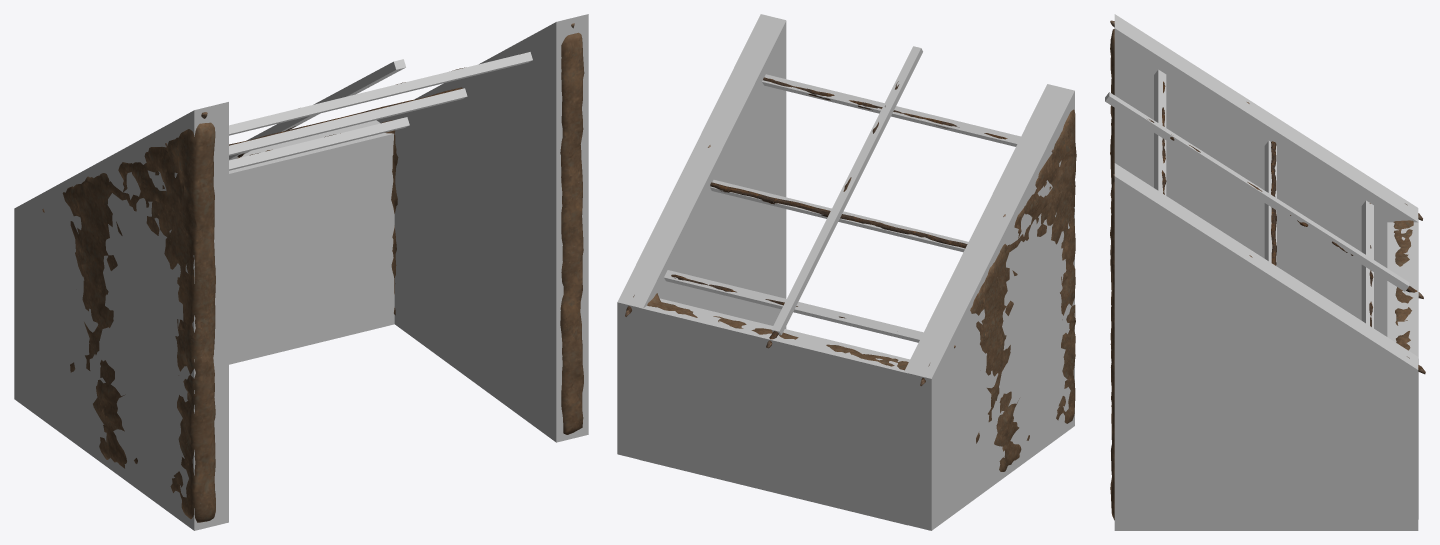
The model's file is SM_mud_wall_mod_07.fbx.
3 renders of one model, left to right at view 1: azimuth 30°, elevation 25°; view 2: azimuth 150°, elevation 25°; view 3: azimuth 270°, elevation 25°, orthographic. The views are drawn at different scales.
Visible parts, largest first — view 1: SM_mud_wall_mod_07_ConvexHulls, SM_mud_wall_mod_07; view 2: SM_mud_wall_mod_07_ConvexHulls, SM_mud_wall_mod_07; view 3: SM_mud_wall_mod_07_ConvexHulls, SM_mud_wall_mod_07.
Boxes of the visible parts, box(x1,y1,x2,y2) form: SM_mud_wall_mod_07_ConvexHulls: box(14, 14, 588, 530); SM_mud_wall_mod_07: box(42, 23, 584, 522); SM_mud_wall_mod_07_ConvexHulls: box(617, 14, 1074, 530); SM_mud_wall_mod_07: box(625, 77, 1076, 471); SM_mud_wall_mod_07_ConvexHulls: box(1105, 14, 1418, 530); SM_mud_wall_mod_07: box(1110, 20, 1425, 520).
Bounding box in the file's own units: 254 × 211 × 260.
Materials: 3 (2 with a texture image).
